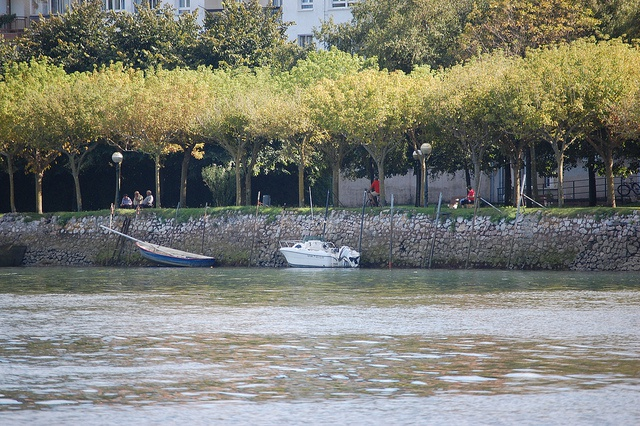non-vehicle: (617, 177, 639, 195), (364, 188, 382, 208)
